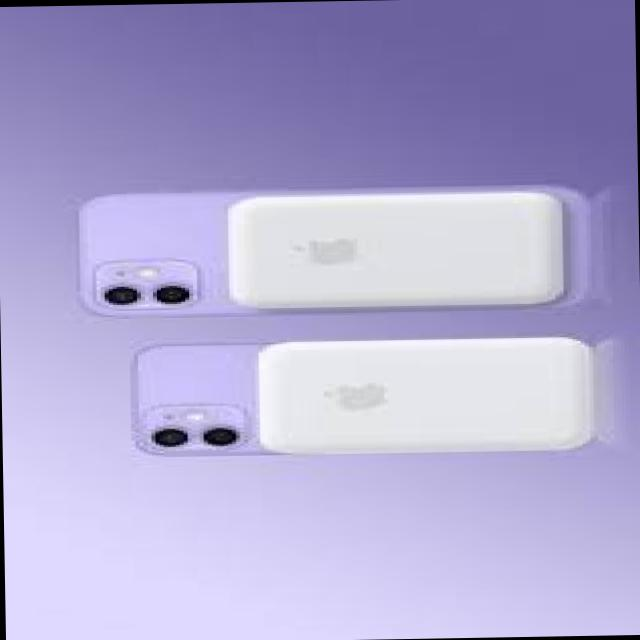portable-charger: (248, 332, 590, 454), (227, 190, 567, 312)
